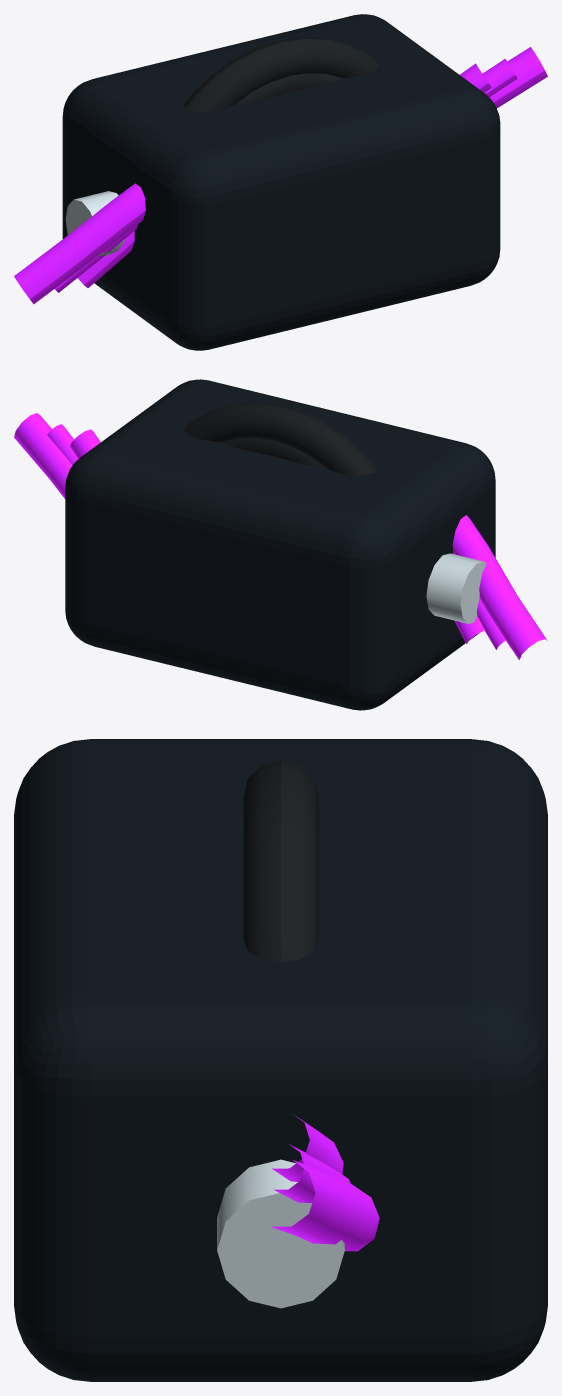
Rendered from electrical_14.glb.
3 views of the same model, one above another, from view 1: azimuth 30°, elevation 25°; view 2: azimuth 150°, elevation 25°; view 3: azimuth 270°, elevation 25° (orthographic). The views are drawn at different scales.
Visible parts, largest first — view 1: asset_mesh__electrical_0737__reference_body, asset_mesh__electrical_0746__current_path, asset_mesh__electrical_0736__service_element, asset_mesh__electrical_0742__current_path, asset_mesh__electrical_0769__service_element, asset_mesh__electrical_0762__current_path, asset_mesh__electrical_0782__assembly_axis; view 2: asset_mesh__electrical_0737__reference_body, asset_mesh__electrical_0736__service_element, asset_mesh__electrical_0746__current_path, asset_mesh__electrical_0782__assembly_axis, asset_mesh__electrical_0769__service_element, asset_mesh__electrical_0762__current_path, asset_mesh__electrical_0742__current_path; view 3: asset_mesh__electrical_0737__reference_body, asset_mesh__electrical_0736__service_element, asset_mesh__electrical_0782__assembly_axis, asset_mesh__electrical_0746__current_path, asset_mesh__electrical_0742__current_path, asset_mesh__electrical_0762__current_path.
Boxes of the visible parts, bbox=[...] form: asset_mesh__electrical_0737__reference_body: bbox=[62, 14, 500, 350]; asset_mesh__electrical_0746__current_path: bbox=[14, 47, 547, 303]; asset_mesh__electrical_0736__service_element: bbox=[184, 37, 378, 111]; asset_mesh__electrical_0742__current_path: bbox=[78, 63, 491, 287]; asset_mesh__electrical_0769__service_element: bbox=[236, 73, 341, 103]; asset_mesh__electrical_0762__current_path: bbox=[55, 58, 517, 292]; asset_mesh__electrical_0782__assembly_axis: bbox=[65, 191, 125, 256]; asset_mesh__electrical_0737__reference_body: bbox=[65, 379, 495, 710]; asset_mesh__electrical_0736__service_element: bbox=[184, 402, 376, 475]; asset_mesh__electrical_0746__current_path: bbox=[14, 413, 547, 659]; asset_mesh__electrical_0782__assembly_axis: bbox=[426, 553, 486, 623]; asset_mesh__electrical_0769__service_element: bbox=[220, 437, 325, 467]; asset_mesh__electrical_0762__current_path: bbox=[47, 424, 505, 649]; asset_mesh__electrical_0742__current_path: bbox=[70, 429, 484, 643]; asset_mesh__electrical_0737__reference_body: bbox=[14, 739, 547, 1381]; asset_mesh__electrical_0736__service_element: bbox=[243, 760, 318, 962]; asset_mesh__electrical_0782__assembly_axis: bbox=[217, 1159, 344, 1308]; asset_mesh__electrical_0746__current_path: bbox=[271, 1160, 379, 1251]; asset_mesh__electrical_0742__current_path: bbox=[272, 1114, 343, 1181]; asset_mesh__electrical_0762__current_path: bbox=[274, 1144, 350, 1202].
Bounding box in the file's own units: 1.73 × 0.8732 × 0.7728.
